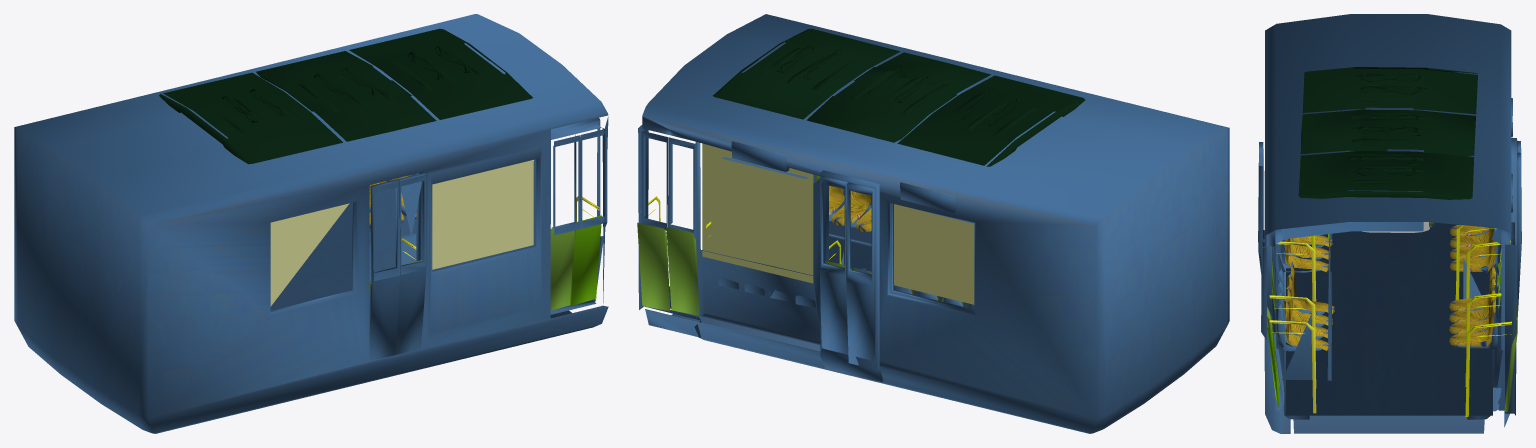
The model's file is bagoni.gltf.
3 views of the same model, side by side, from view 1: azimuth 30°, elevation 25°; view 2: azimuth 150°, elevation 25°; view 3: azimuth 270°, elevation 25° (orthographic). The views are drawn at different scales.
Parts seen in each view (by area): view 1: subway_lowpoly.017, ElectricTrain.001, Plane, Plane.001, subway_lowpoly.019, subway_lowpoly.026, subway_lowpoly.020, subway_lowpoly.025, subway_lowpoly.001, subway_lowpoly.015, subway_lowpoly.024; view 2: subway_lowpoly.017, ElectricTrain.001, Plane.003, Plane.002, subway_lowpoly.029, subway_lowpoly.031, subway_lowpoly.032, subway_lowpoly.012; view 3: subway_lowpoly.017, ElectricTrain.001, subway_lowpoly.011, subway_lowpoly.012, subway_lowpoly.022, subway_lowpoly.013, subway_lowpoly.014, subway_lowpoly.003, subway_lowpoly.010, subway_lowpoly.025, subway_lowpoly.001, subway_lowpoly.019 (+8 smaller).
Boxes of the visible parts, <box> form: subway_lowpoly.017: <box>14,14,608,433</box>; ElectricTrain.001: <box>159,28,532,164</box>; Plane: <box>432,160,533,269</box>; Plane.001: <box>270,203,349,306</box>; subway_lowpoly.019: <box>569,215,601,305</box>; subway_lowpoly.026: <box>370,179,424,284</box>; subway_lowpoly.020: <box>550,228,575,310</box>; subway_lowpoly.025: <box>553,128,607,235</box>; subway_lowpoly.001: <box>373,174,426,281</box>; subway_lowpoly.015: <box>550,120,601,314</box>; subway_lowpoly.024: <box>398,173,425,236</box>; subway_lowpoly.017: <box>638,14,1229,433</box>; ElectricTrain.001: <box>713,28,1085,166</box>; Plane.003: <box>702,143,813,283</box>; Plane.002: <box>894,204,974,304</box>; subway_lowpoly.029: <box>666,227,699,315</box>; subway_lowpoly.031: <box>637,222,670,311</box>; subway_lowpoly.032: <box>641,131,697,242</box>; subway_lowpoly.012: <box>829,185,871,231</box>; subway_lowpoly.017: <box>1258,14,1521,433</box>; ElectricTrain.001: <box>1298,67,1477,199</box>; subway_lowpoly.011: <box>1449,265,1496,346</box>; subway_lowpoly.012: <box>1284,261,1334,350</box>; subway_lowpoly.022: <box>1449,225,1495,272</box>; subway_lowpoly.013: <box>1285,235,1332,272</box>; subway_lowpoly.014: <box>1278,266,1325,351</box>; subway_lowpoly.003: <box>1269,320,1316,413</box>; subway_lowpoly.010: <box>1465,321,1511,416</box>; subway_lowpoly.025: <box>1262,226,1266,340</box>; subway_lowpoly.001: <box>1258,164,1263,255</box>; subway_lowpoly.019: <box>1267,275,1501,406</box>.
Size of the model in its own units: 649 by 330 by 344.
32 materials, 8 textured.
